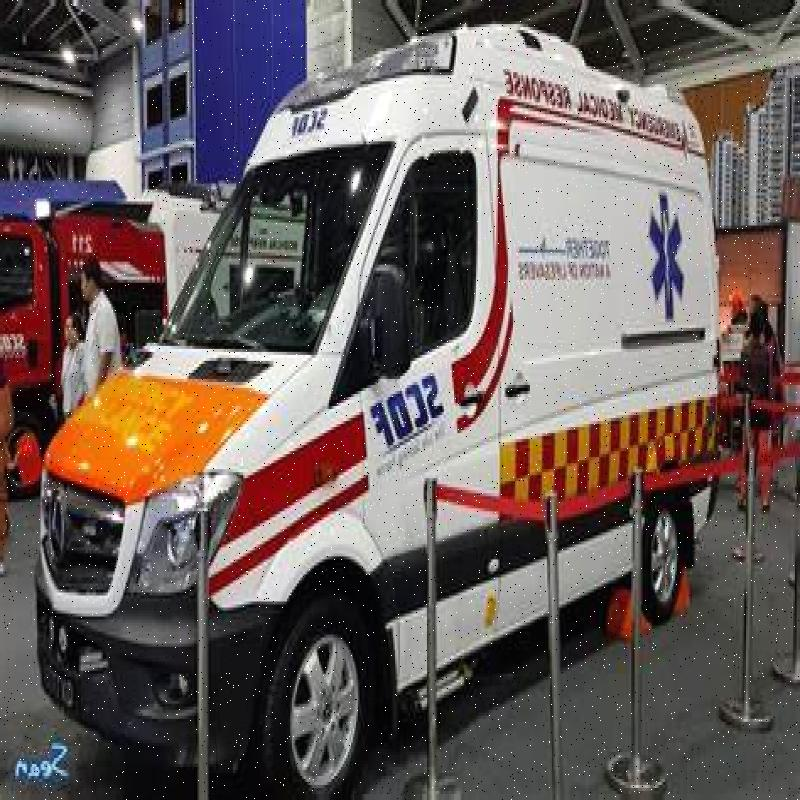AmbulanceSiren: (268, 14, 470, 125)
